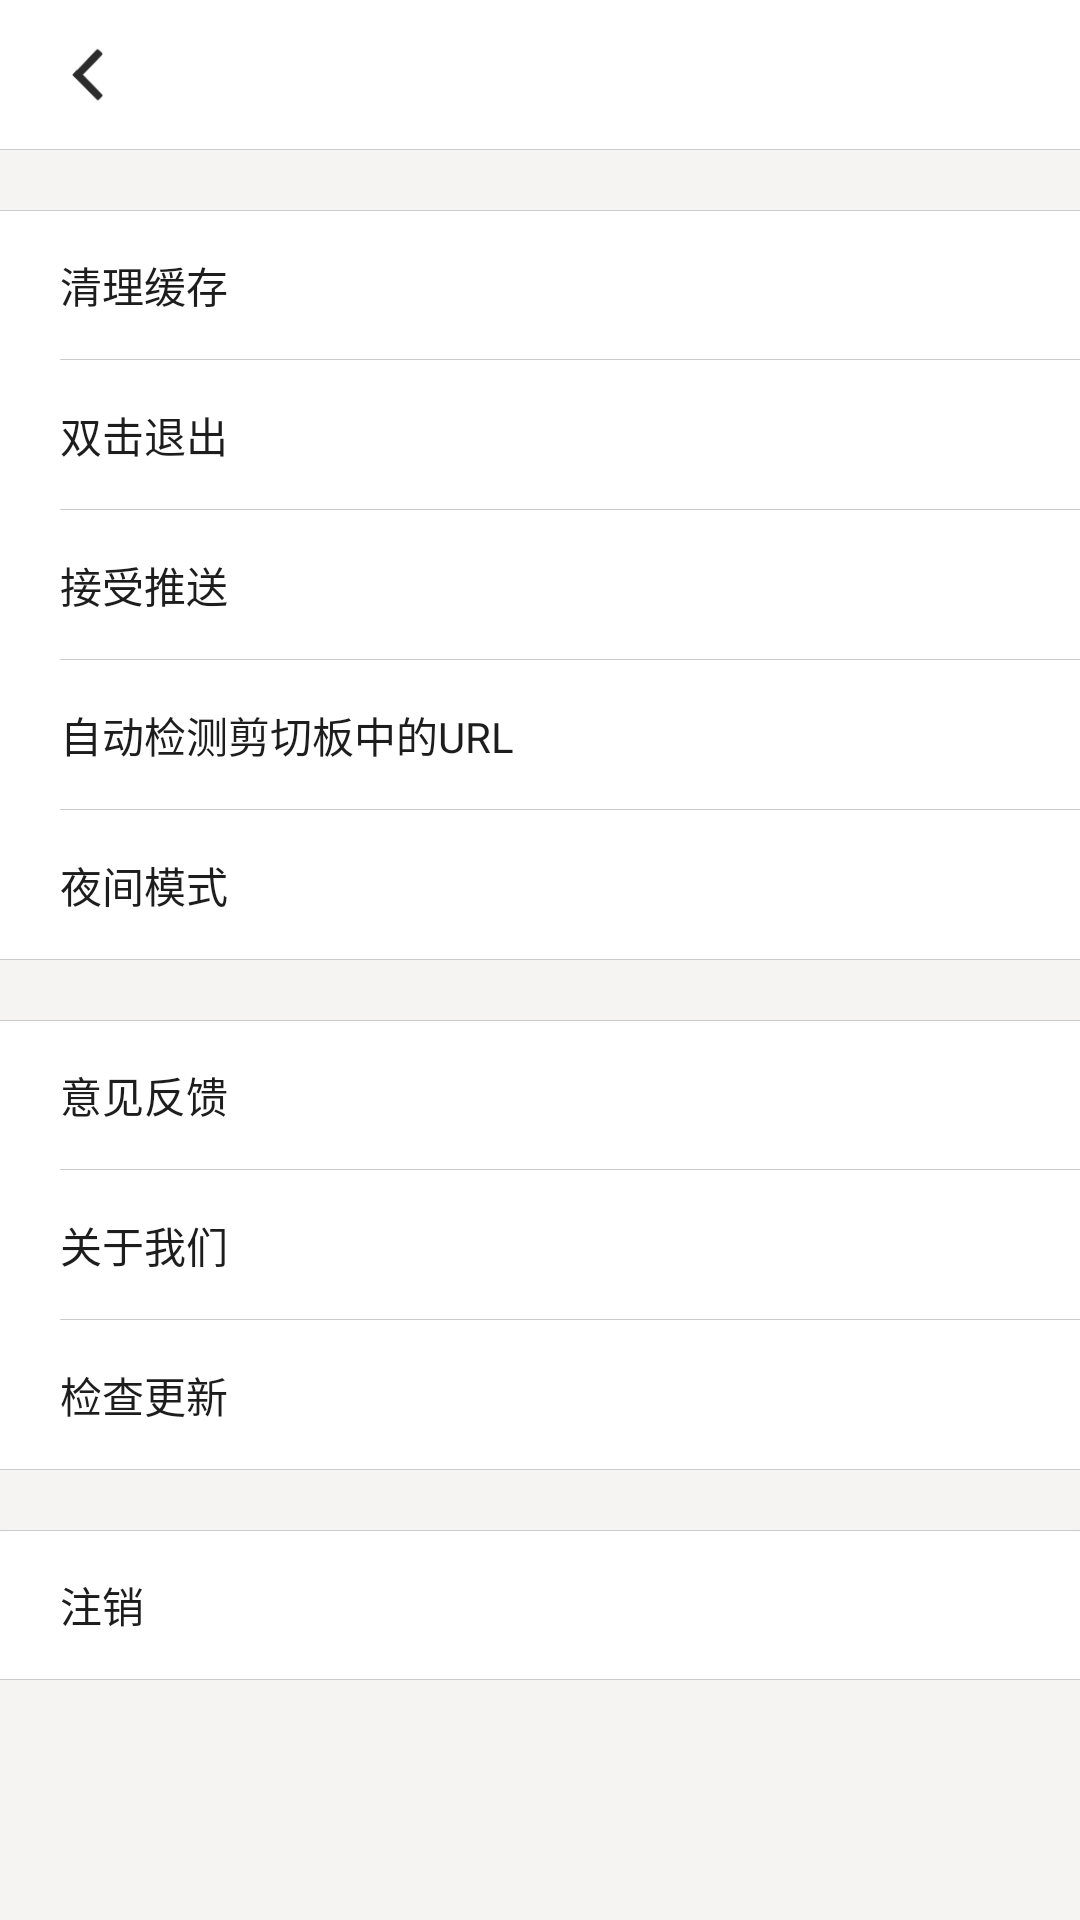

Icons on this 1080*1920 Android screen, each with the point to tap as (x=x, y=y):
back: (x=87, y=75)
